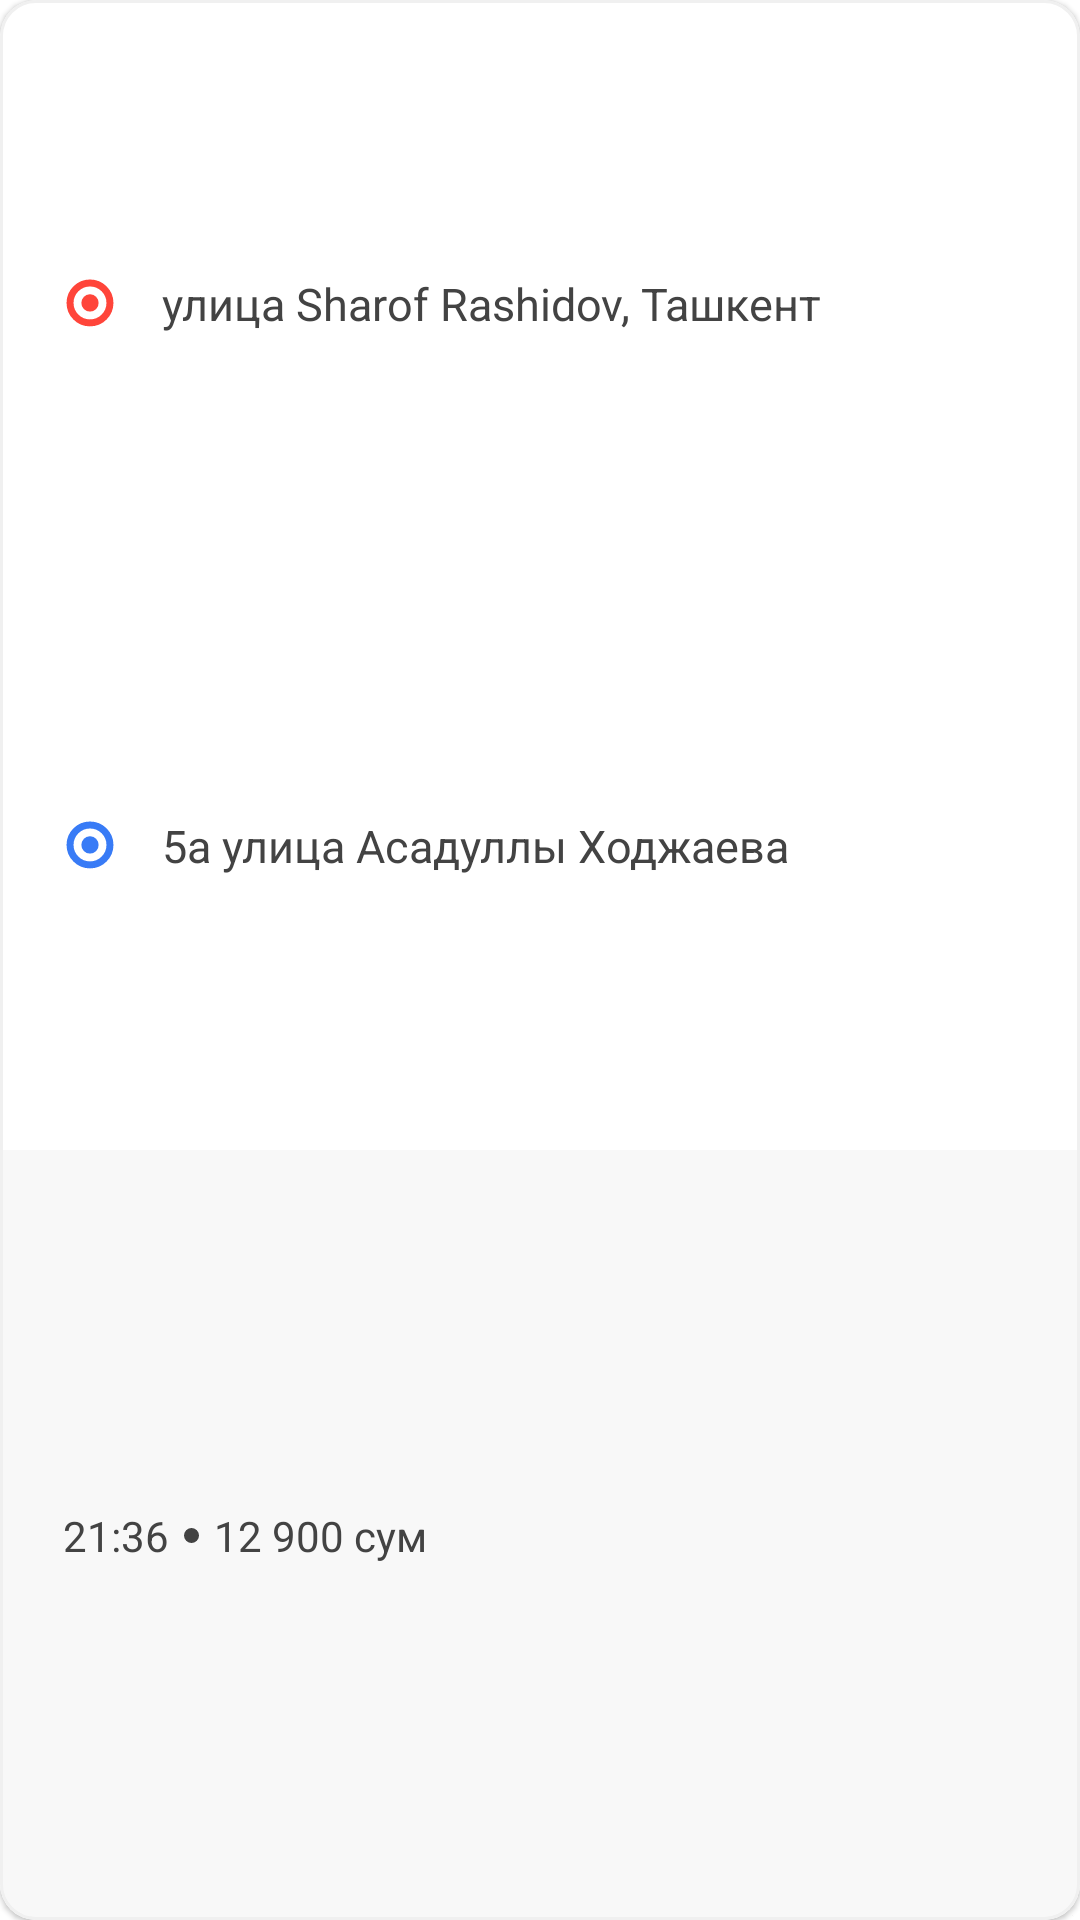

Point at icon controls on the screen. Image size 1080px×1920px, points as (x=x, y=y).
dots: (x=90, y=303)
